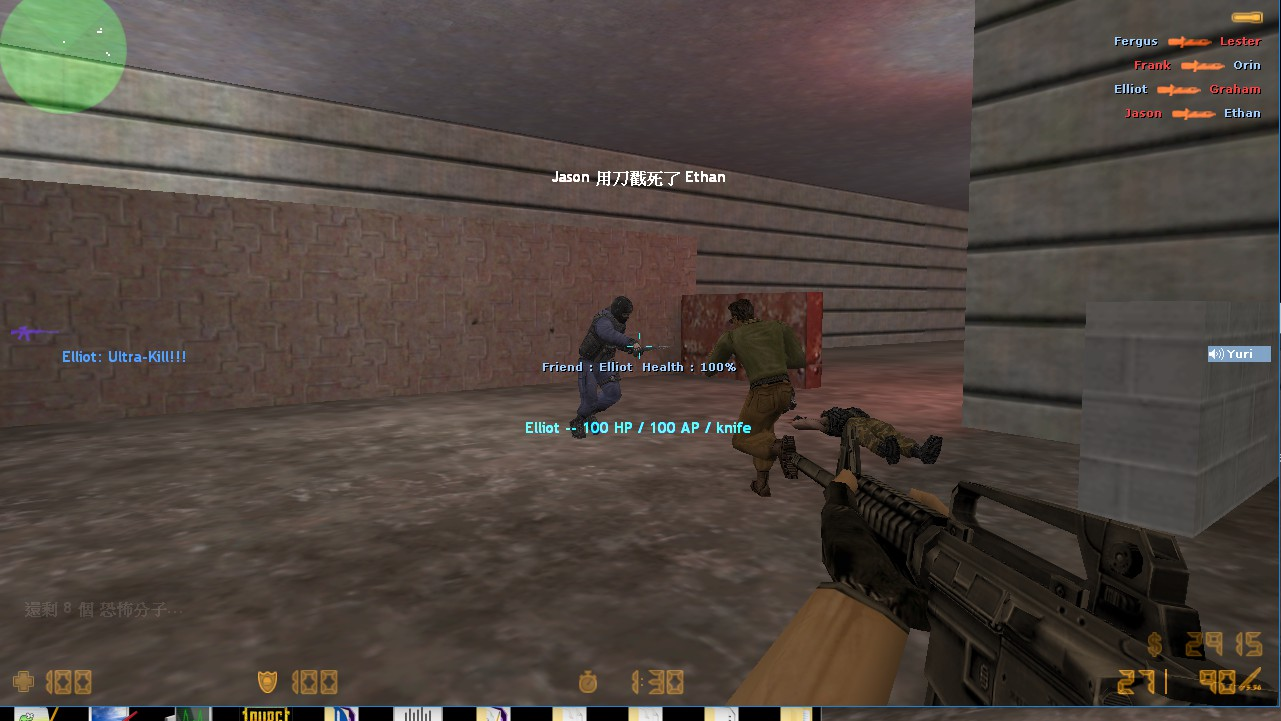person: (713, 300, 804, 499), (569, 291, 644, 451)
